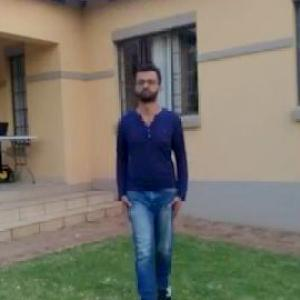follow: (112, 57, 188, 284)
